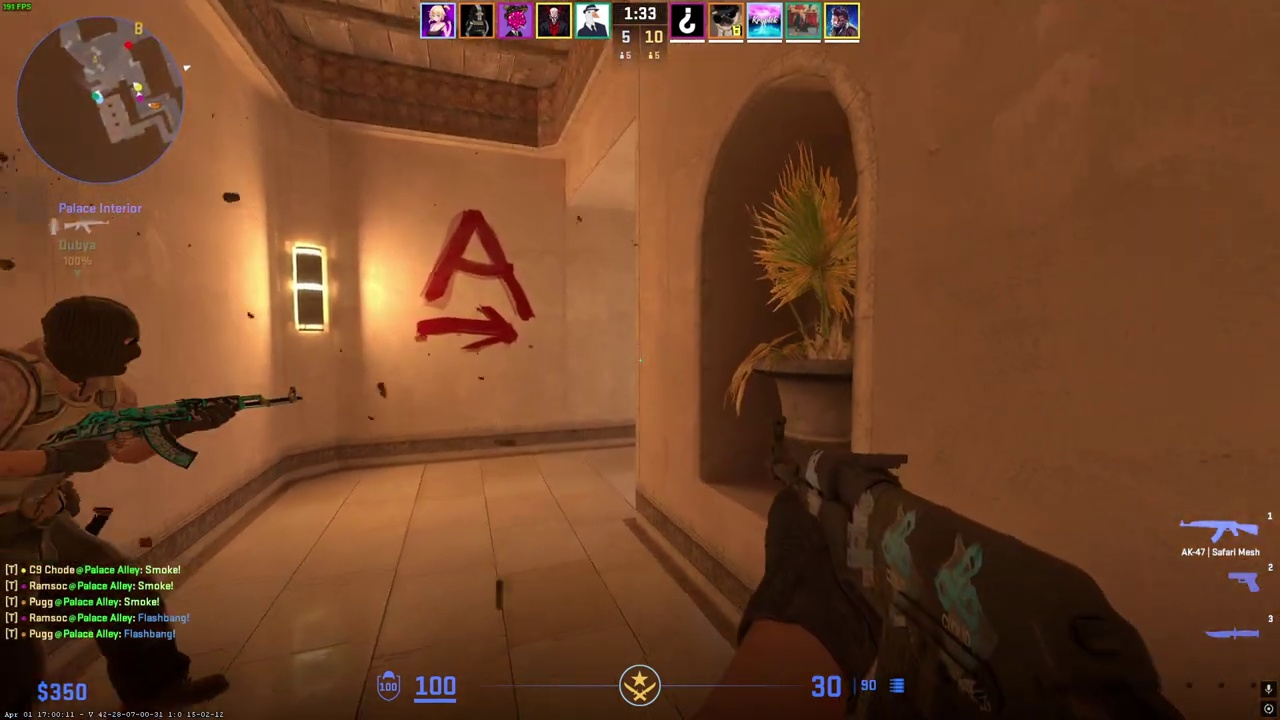Terrorist: (1, 296, 184, 719)
